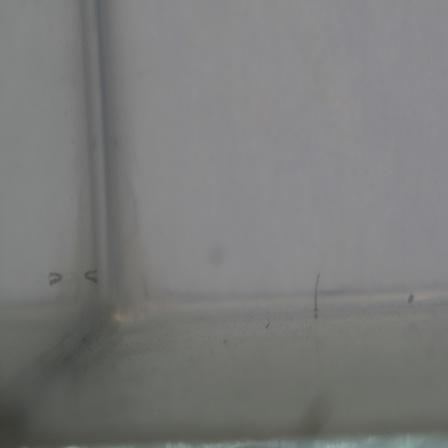Jentik-Nyamuk: (309, 269, 325, 318), (83, 264, 102, 287)
